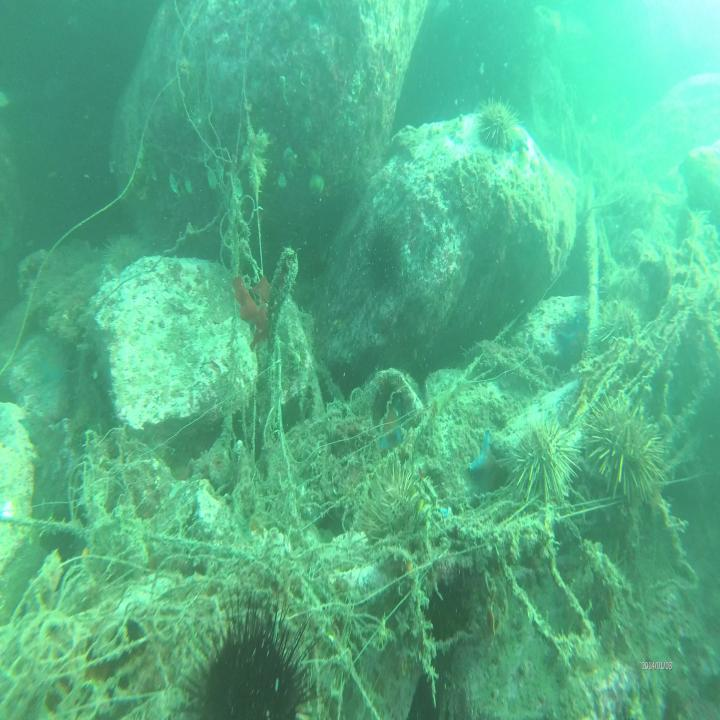echinus: (199, 599, 307, 720), (589, 394, 661, 505), (518, 413, 577, 510), (370, 474, 428, 547), (364, 222, 402, 287), (480, 98, 518, 152)
starfish: (469, 434, 508, 501), (376, 407, 406, 454)
